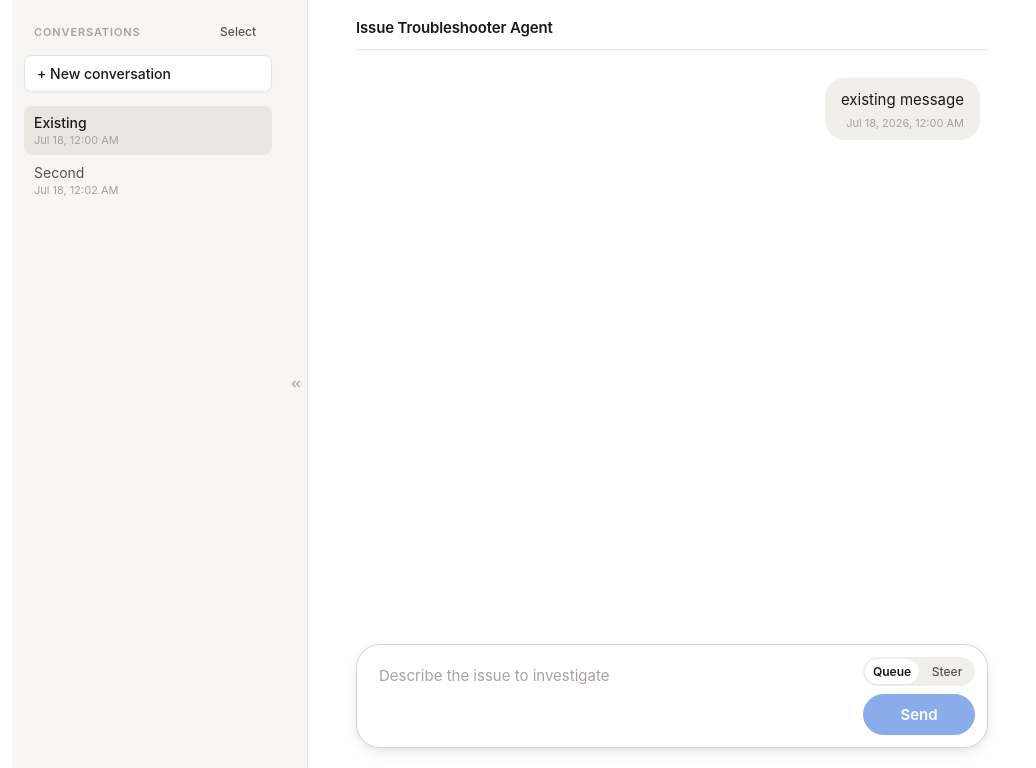
Test: App collapsible conversation list › clears selection mode when the sidebar collapses
Check: the text "Existing" is shown, box [34,114,87,131]
Click the button "Select". click: [238, 32]
box: [214,20,262,43]
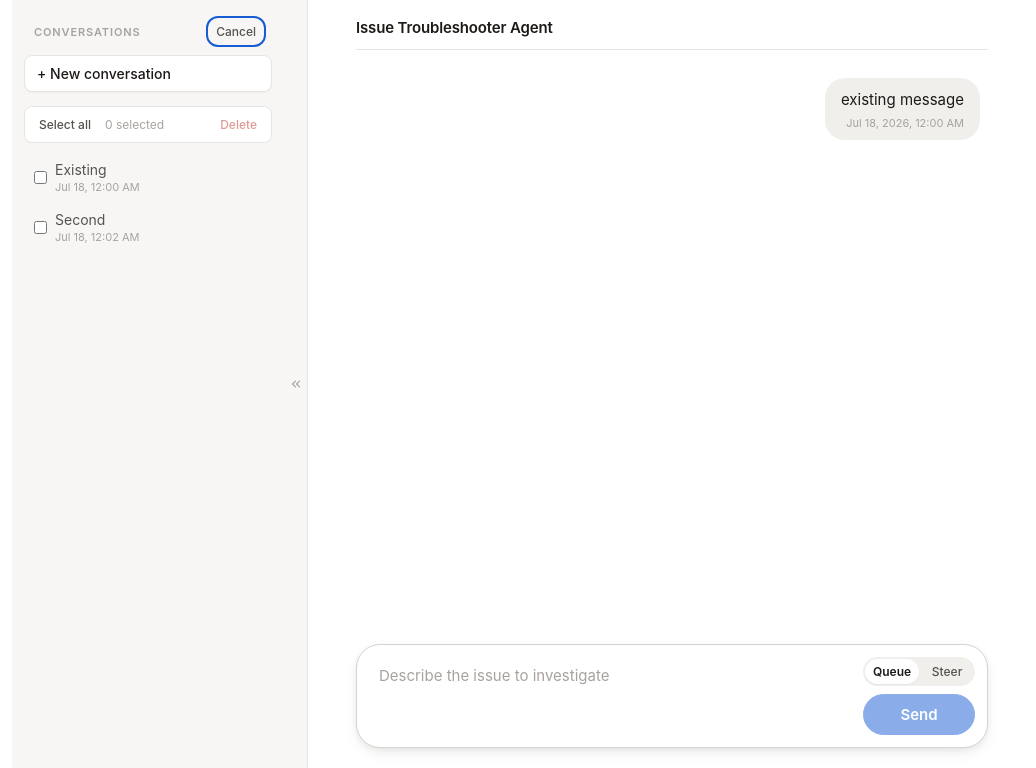
Click the text "Existing". click: [81, 170]
box: [55,161,107,178]
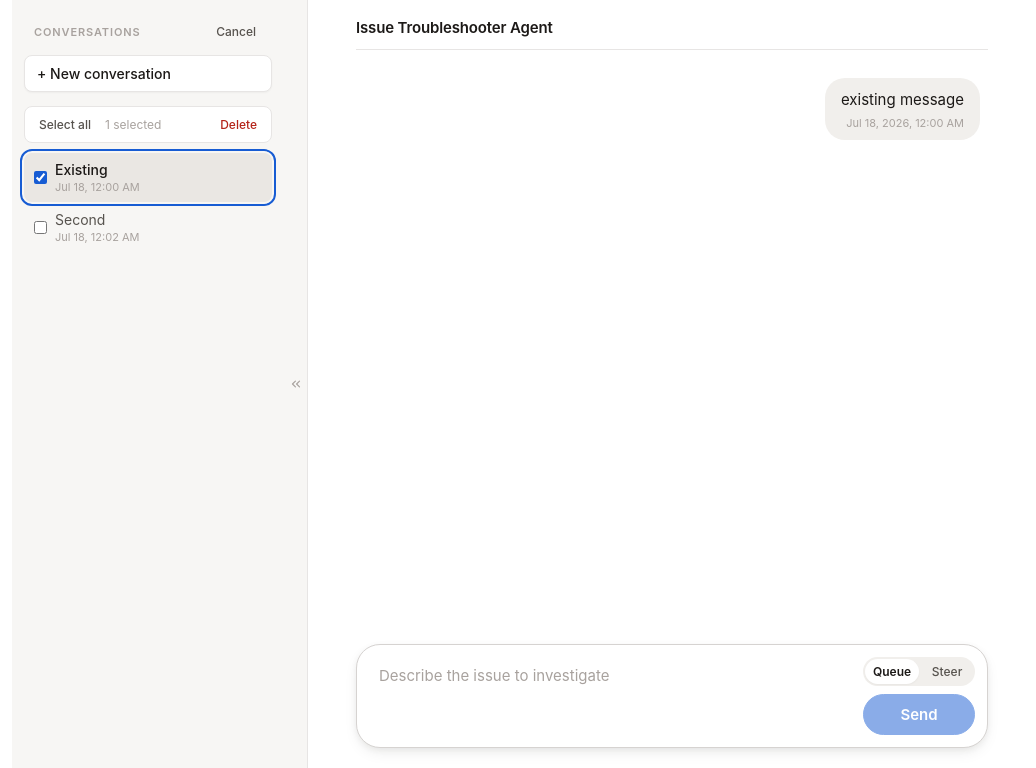
Check: the text "1 selected" is shown, box [105,117,162,132]
Click the button named "Hide conversations". click: [296, 384]
box: [286,360,306,408]
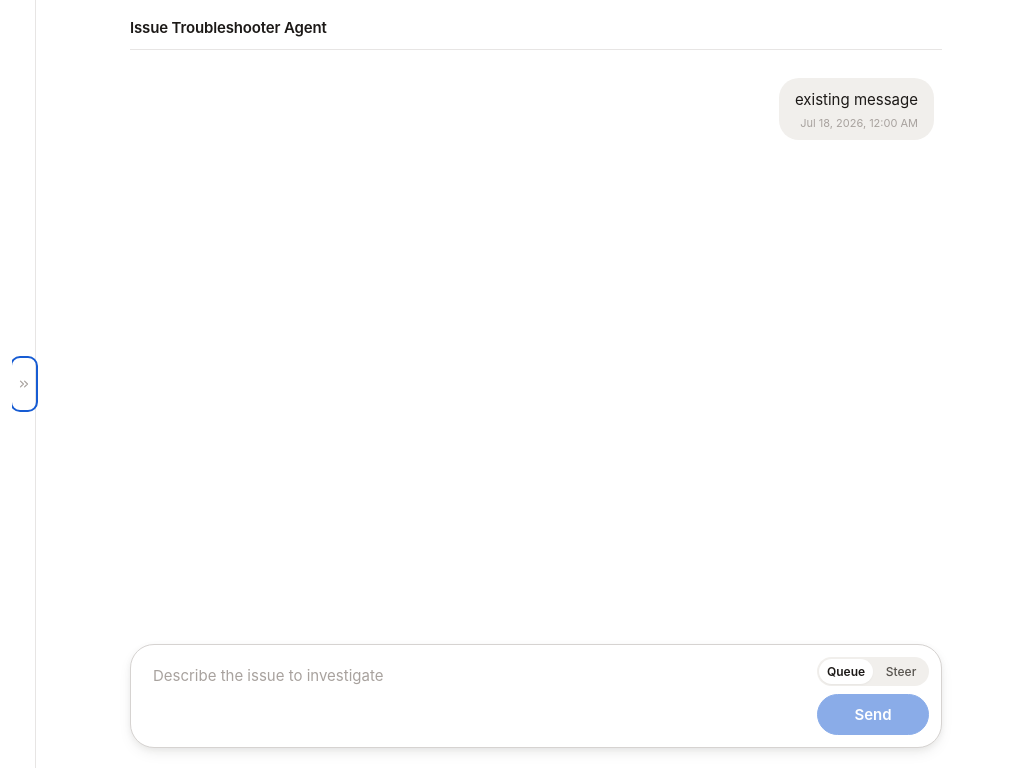
Click the button named "Show conversations". click: [24, 384]
box: [14,360,34,408]
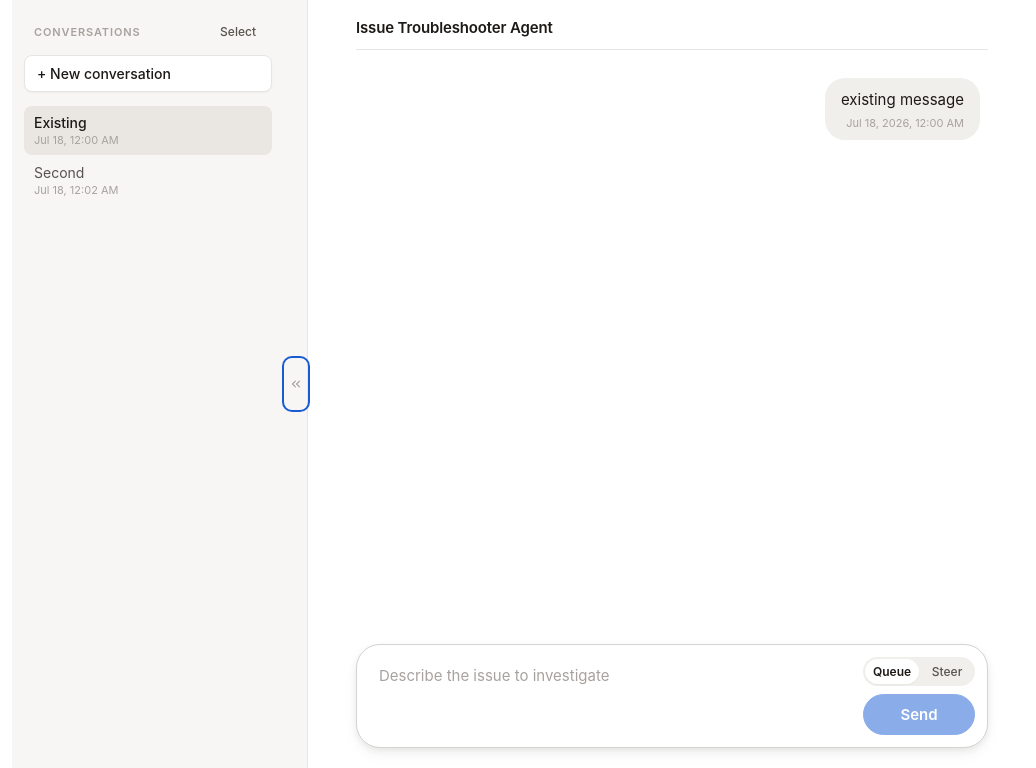
Check: the text "1 selected" is not shown
Check: the button "Select" is shown, box [214,20,262,43]
